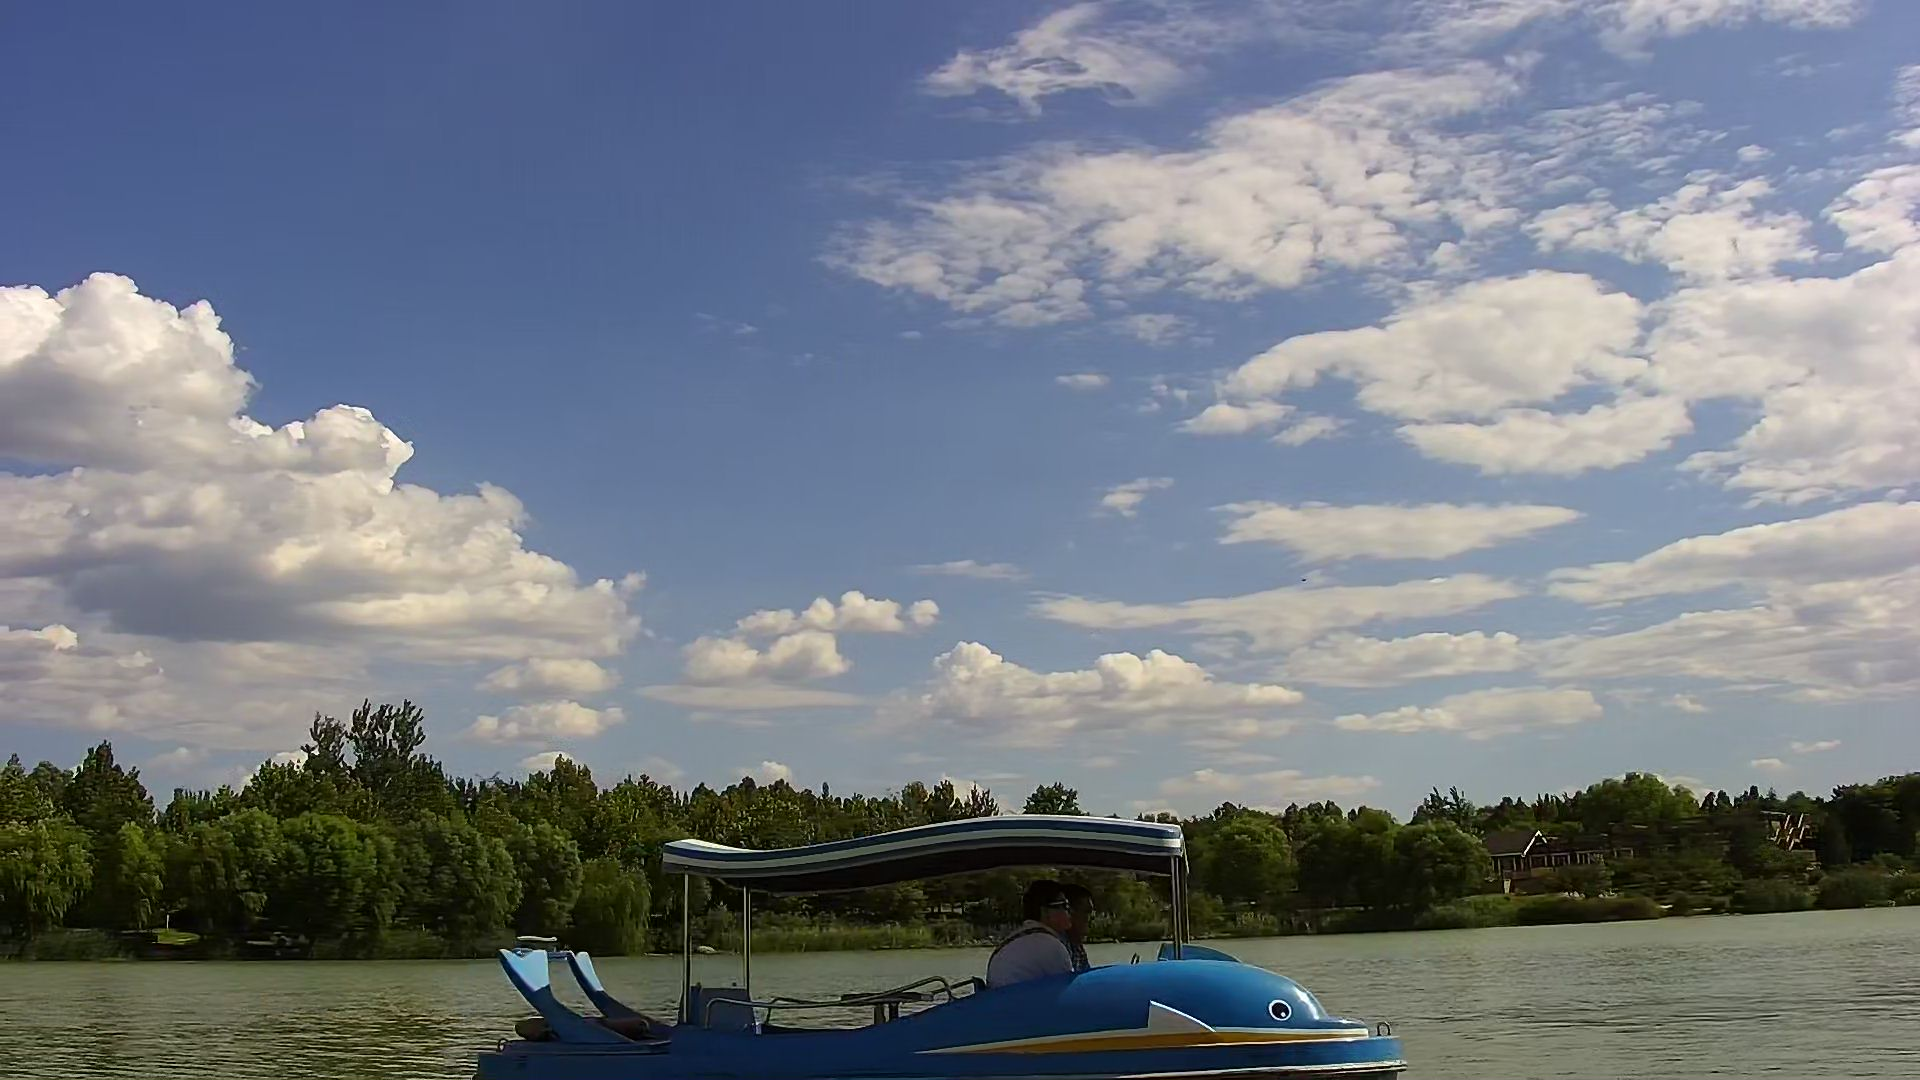boat: (498, 811, 1397, 1080)
person: (980, 868, 1078, 994)
